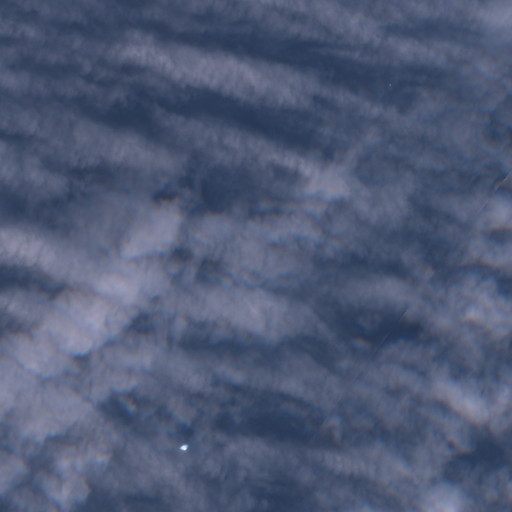Iceberg: (180, 445, 187, 449), (389, 84, 390, 85)
